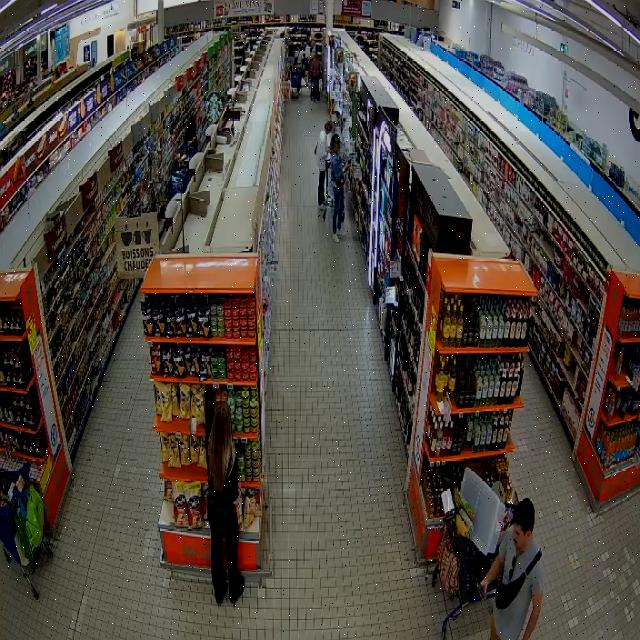bags: (496, 551, 541, 609), (334, 174, 344, 190)
hands: (478, 575, 489, 599), (346, 159, 351, 170)
person: (480, 499, 543, 639), (208, 403, 244, 604), (330, 134, 347, 243), (315, 121, 333, 217)
